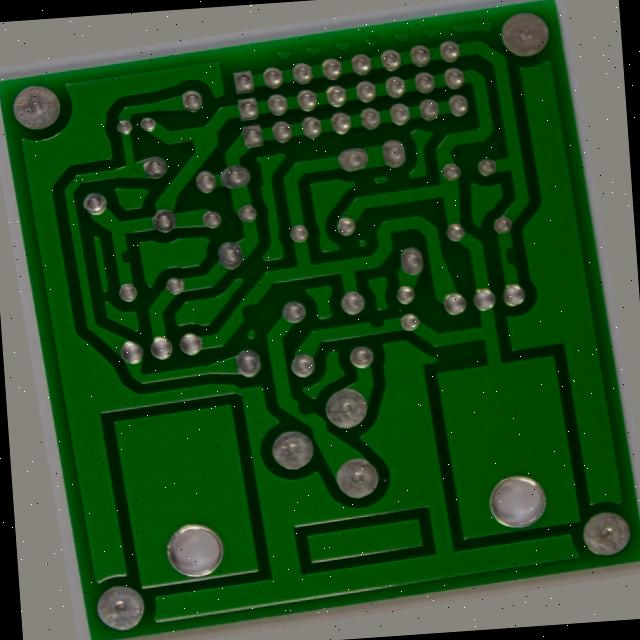mouse_bite: (275, 401, 307, 431), (229, 287, 255, 320), (519, 254, 544, 284), (368, 318, 395, 345), (101, 225, 123, 251)
